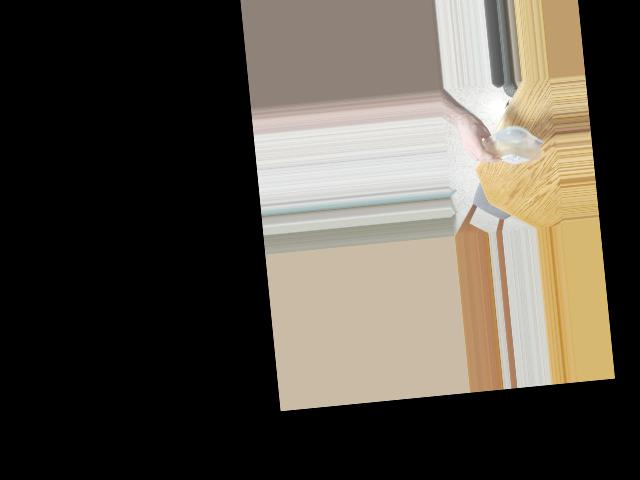cheese: (469, 126, 545, 169)
